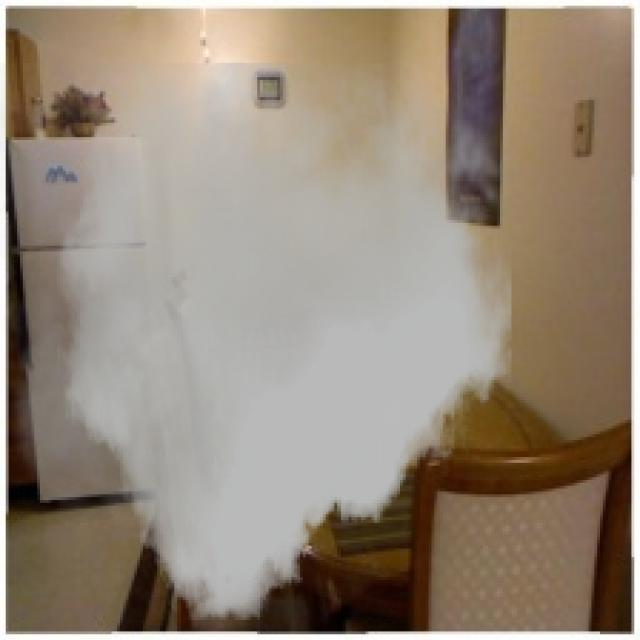Smoke: (0, 63, 520, 620)
